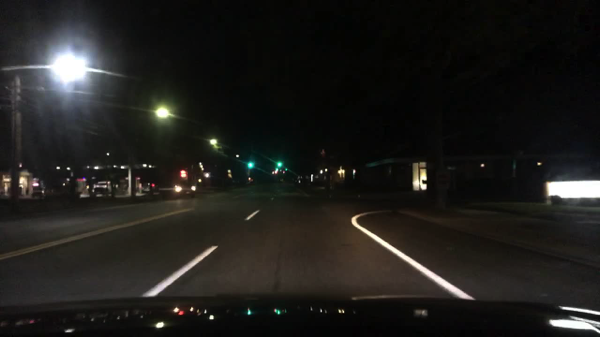car: (160, 180, 196, 197), (88, 181, 114, 197), (141, 179, 159, 193), (30, 186, 48, 198), (247, 177, 256, 184), (277, 177, 284, 183)
traffic light: (180, 169, 188, 178), (248, 161, 254, 169), (276, 162, 281, 167)
